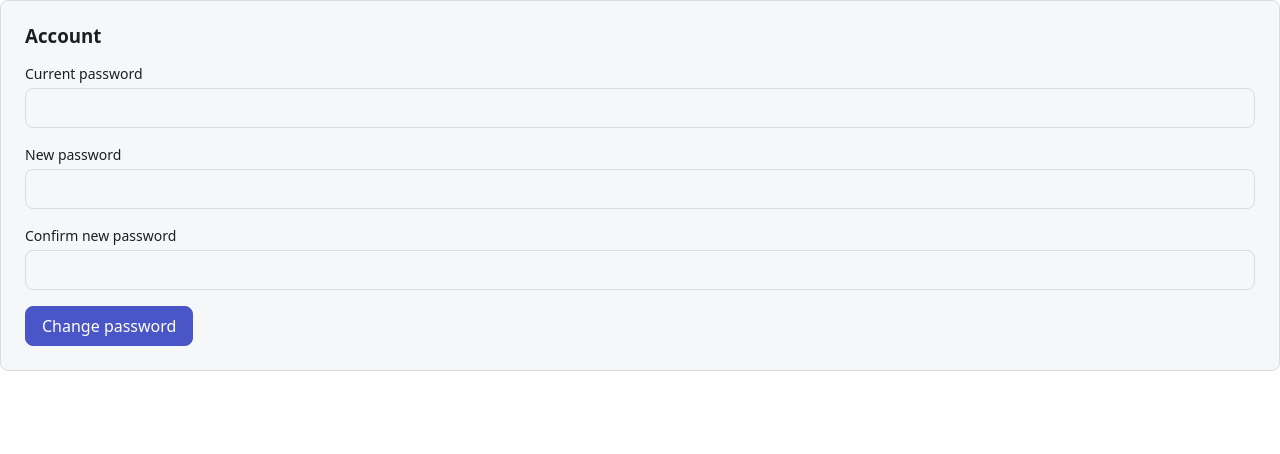
AccountSection › submits current/new password and shows a success message that names session revocation
Type "old-password-123" into the password field labelled "Current password".
click(640, 108); type("old-password-123")  # box [25,88,1255,128]
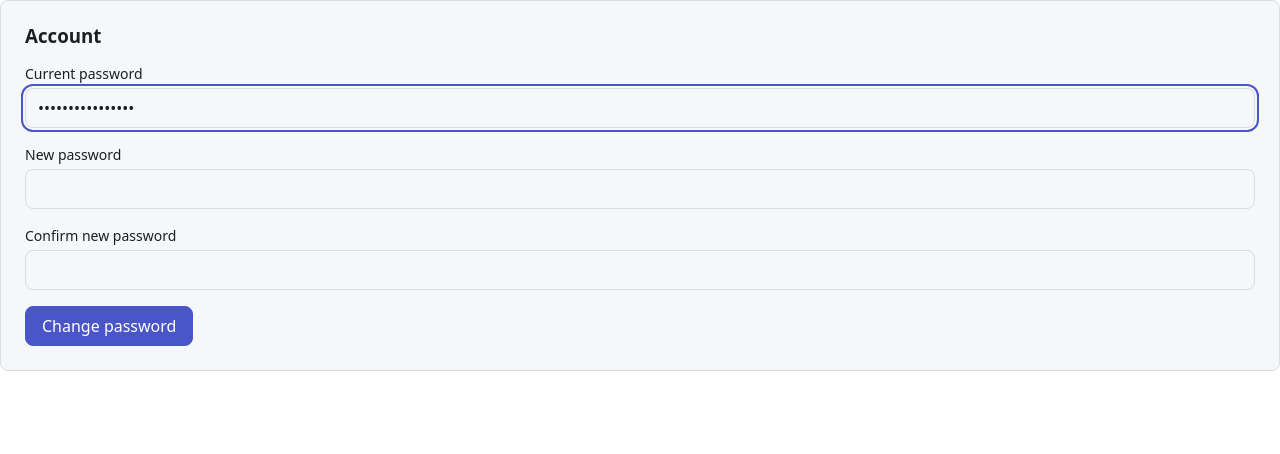
Type "a-brand-new-password-123" into the password field labelled "New password".
click(640, 190); type("a-brand-new-password-123")  # box [25,170,1255,210]
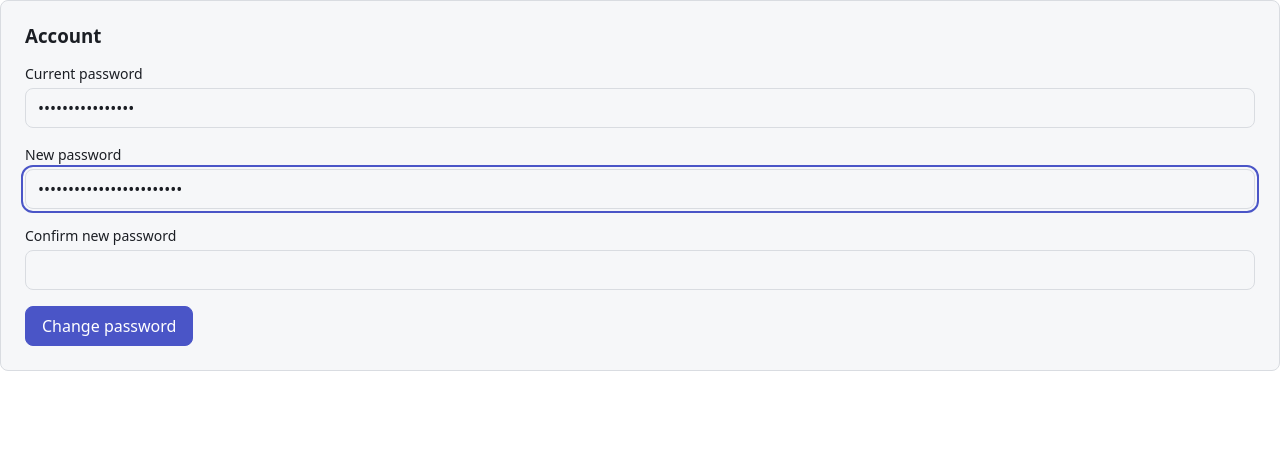
Type "a-brand-new-password-123" into the password field labelled "Confirm new password".
click(640, 270); type("a-brand-new-password-123")  # box [25,250,1255,290]
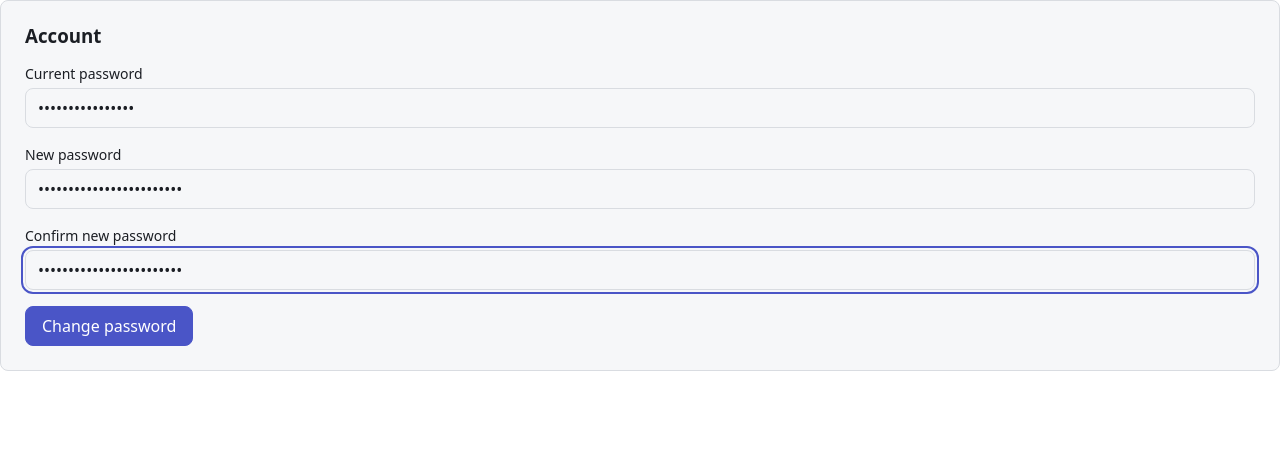
Click the button "Change password".
click(109, 326)  # box [25,306,193,346]
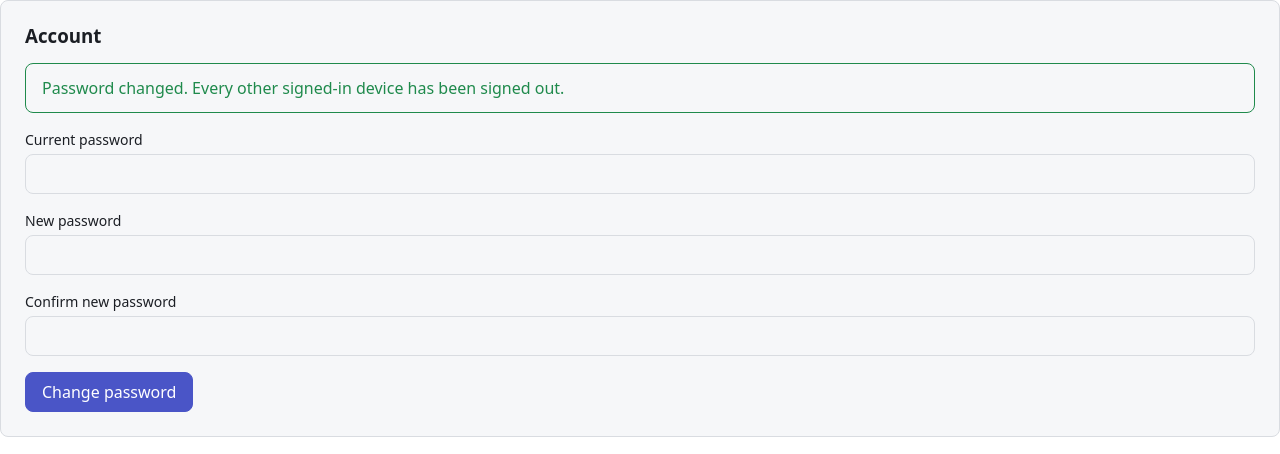
Check: the text "Password changed. Every other signed-in device has been signed out." is shown, box [25,64,1255,114]
